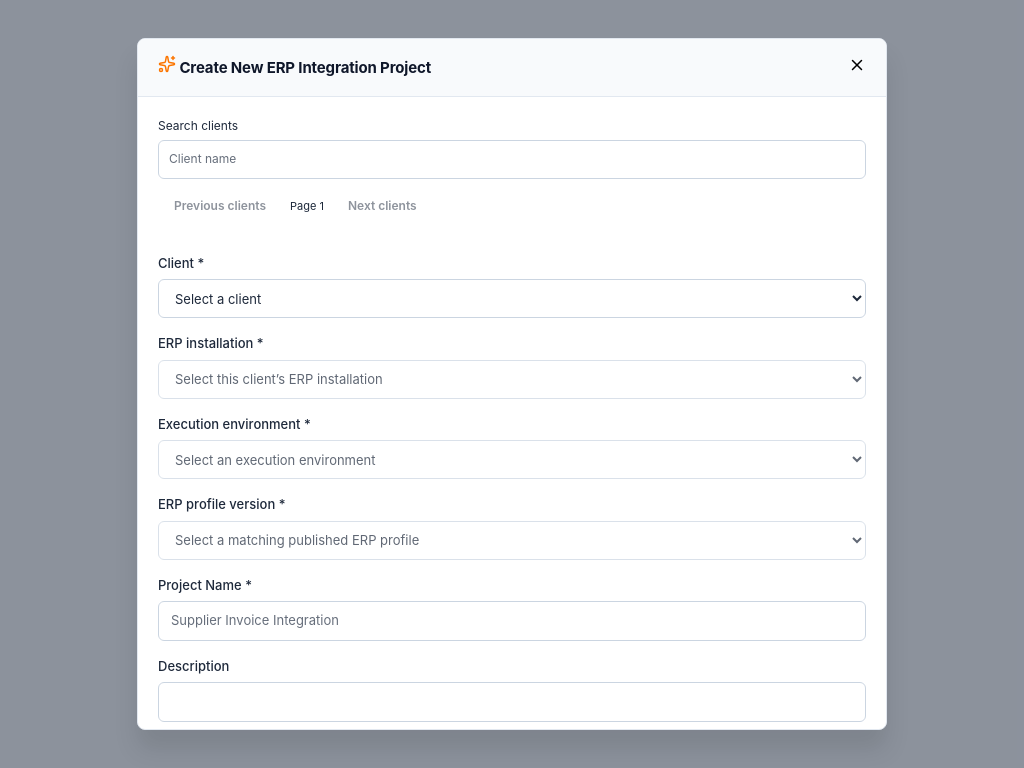
Test case: integration request ownership › blocks creation when pattern discovery fails instead of bypassing pattern selection
Select "Alpha Industries" in the dropdown labelled "Client *" at (512, 299), box [158,279,866,318]
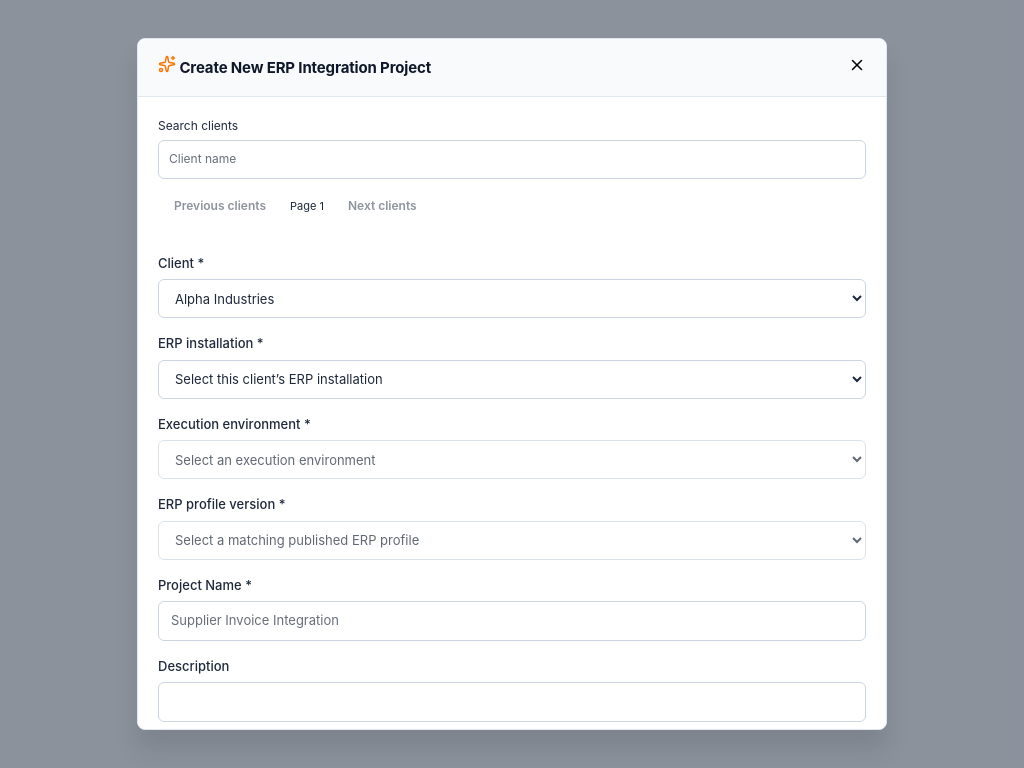
Select "Alpha Industries finance" in the dropdown labelled "ERP installation *" at (512, 379), box [158,360,866,399]
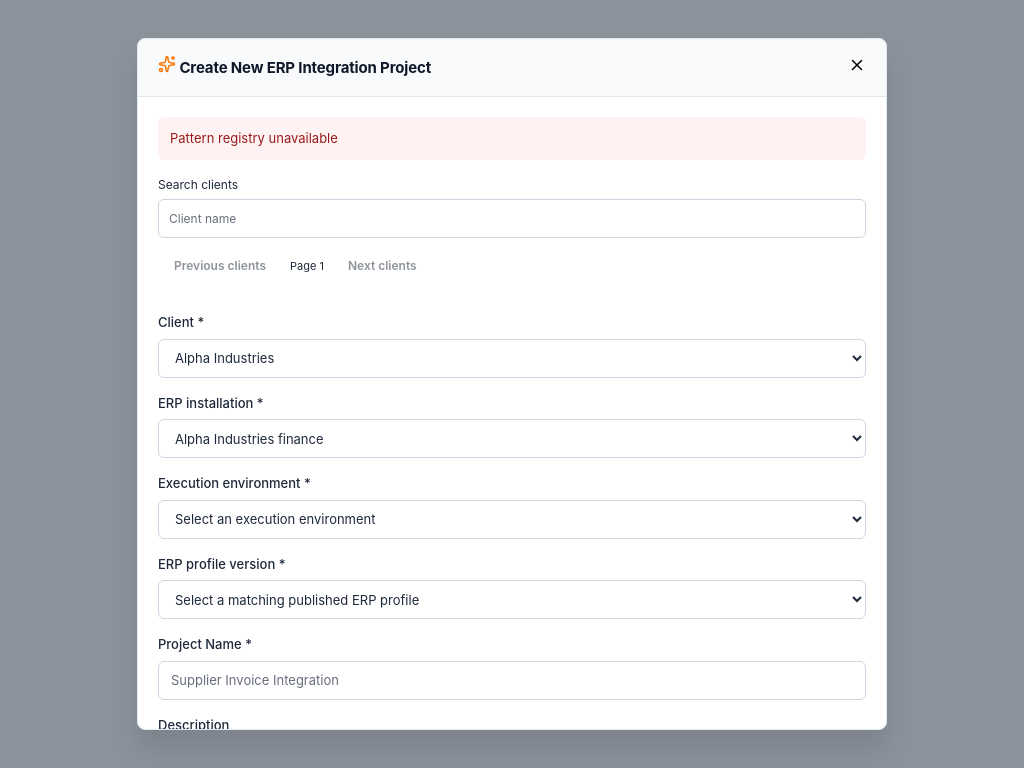
Select "Alpha Industries finance sandbox · SANDBOX" in the dropdown labelled "Execution environment *" at (512, 519), box [158,500,866,539]
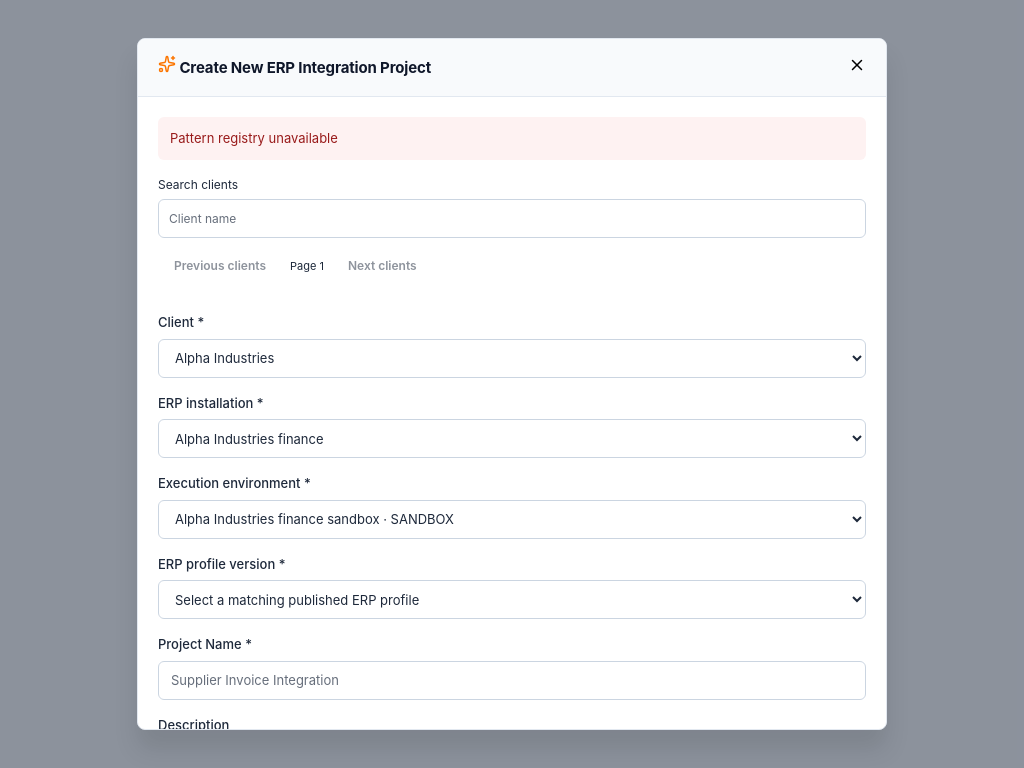
Select "ERP 0 · Profile v3" in the dropdown labelled "ERP profile version *" at (512, 600), box [158,580,866,619]
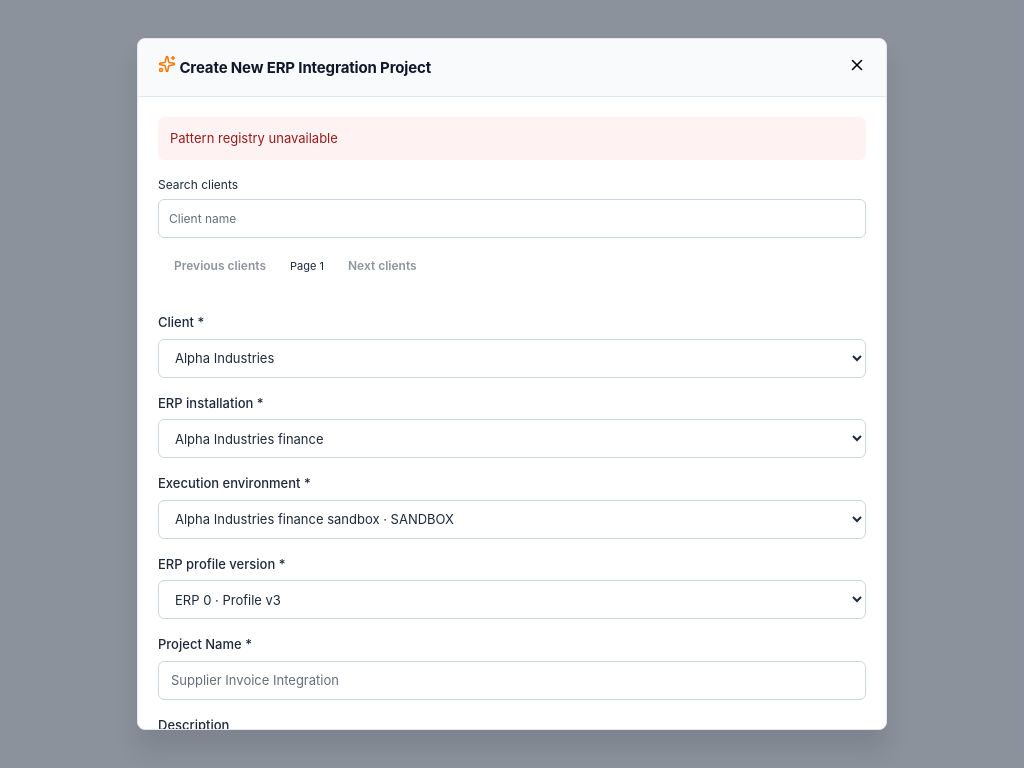
Type "Supplier invoice export" into the field labelled "Project Name *".
click(512, 681); type("Supplier invoice export")  # box [158,661,866,700]
(page scrolled)
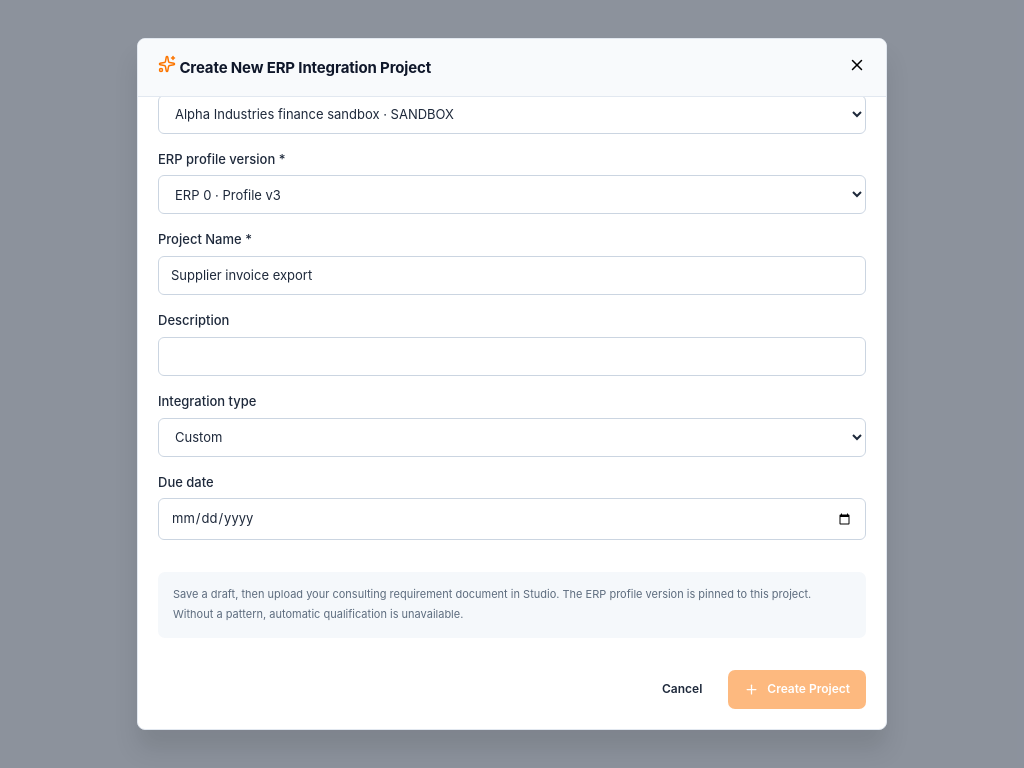
Check: the button "Create Project" is disabled, box [728,670,866,708]
